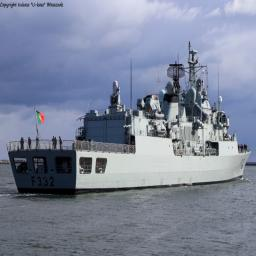Fragata: (8, 36, 253, 201)
